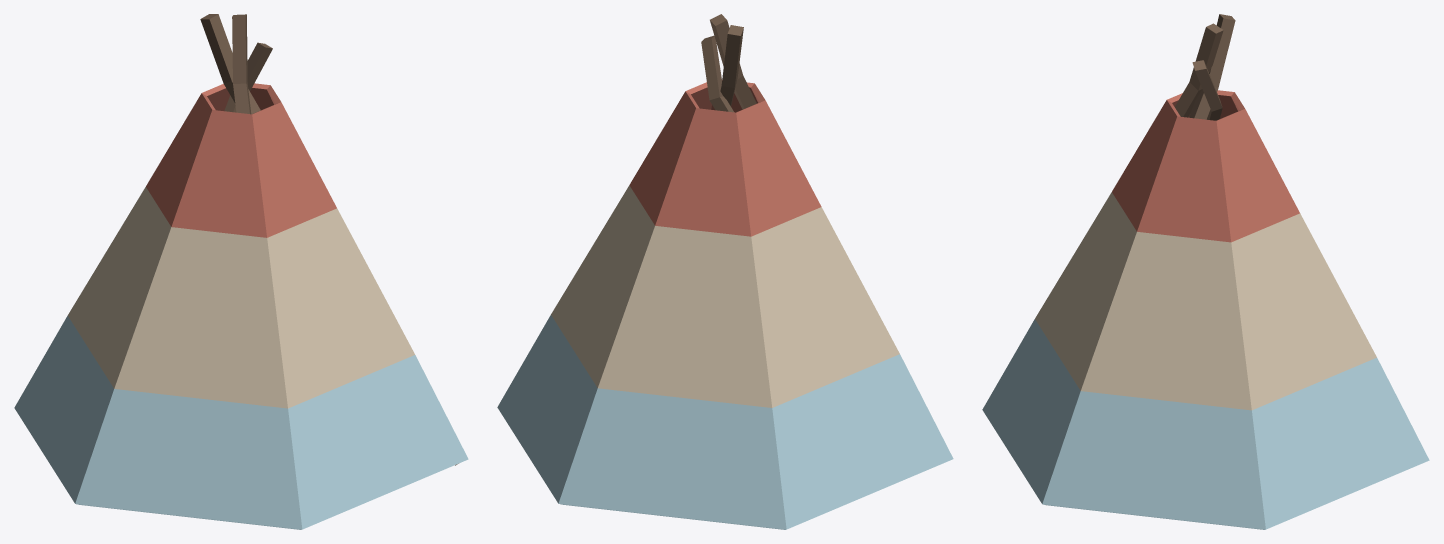
The model's file is Vigvam_3.fbx.
The picture shows the model from 3 angles, left to right: view 1: azimuth 30°, elevation 25°; view 2: azimuth 150°, elevation 25°; view 3: azimuth 270°, elevation 25°; orthographic projection. The views are drawn at different scales.
Parts seen in each view (by area): view 1: Vigvam_3; view 2: Vigvam_3; view 3: Vigvam_3.
Boxes of the visible parts, x1,y1,x2,y2 form: Vigvam_3: (14,14,468,529); Vigvam_3: (497,14,953,529); Vigvam_3: (982,14,1429,529).
Bounding box in the file's own units: 351 × 351 × 360.
